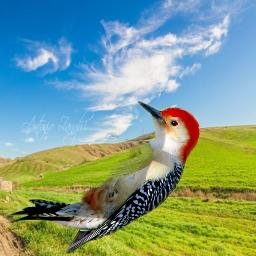Woodpecker: (9, 101, 200, 255)
